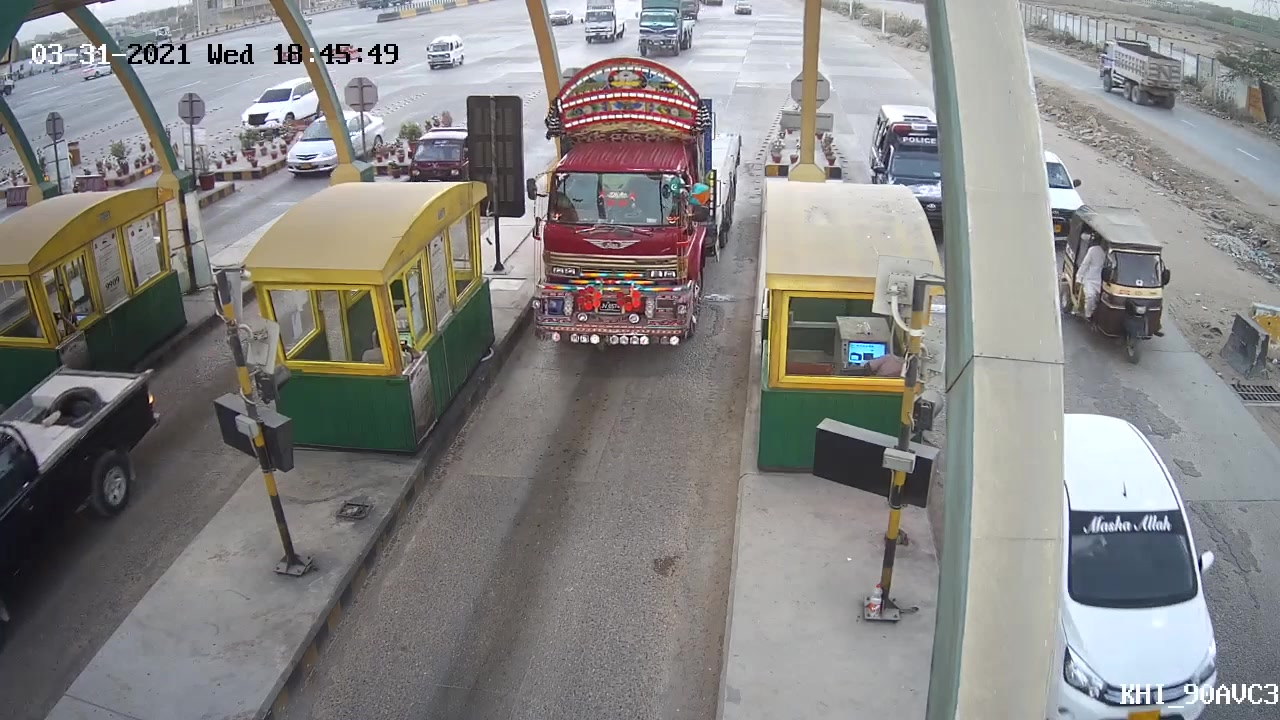F5: (515, 51, 748, 363)
